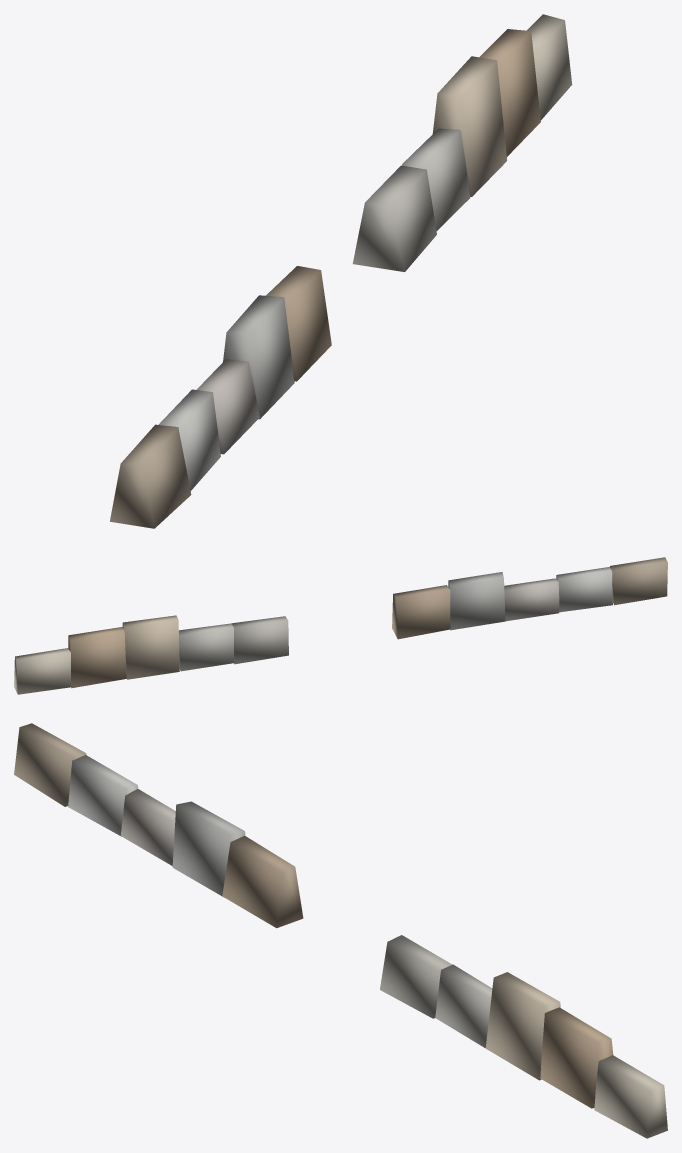
The model's file is farm_-33_-25_far.glb.
3 renders of one model, top to bottom at view 1: azimuth 30°, elevation 25°; view 2: azimuth 150°, elevation 25°; view 3: azimuth 270°, elevation 25°, orthographic. The views are drawn at different scales.
Parts seen in each view (by area): view 1: geometry_0; view 2: geometry_0; view 3: geometry_0.
Boxes of the visible parts, x1,y1,x2,y2 form: geometry_0: (110,14,572,528); geometry_0: (14,557,667,694); geometry_0: (14,723,667,1138).
Size of the model in its own units: 14.35 by 2.34 by 12.8.
